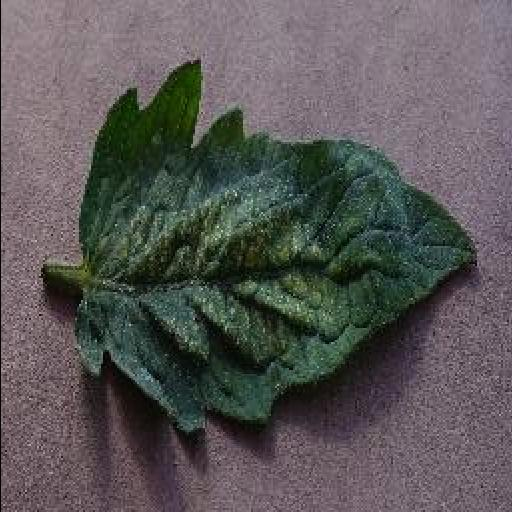disease_tomato: (74, 59, 480, 439)
